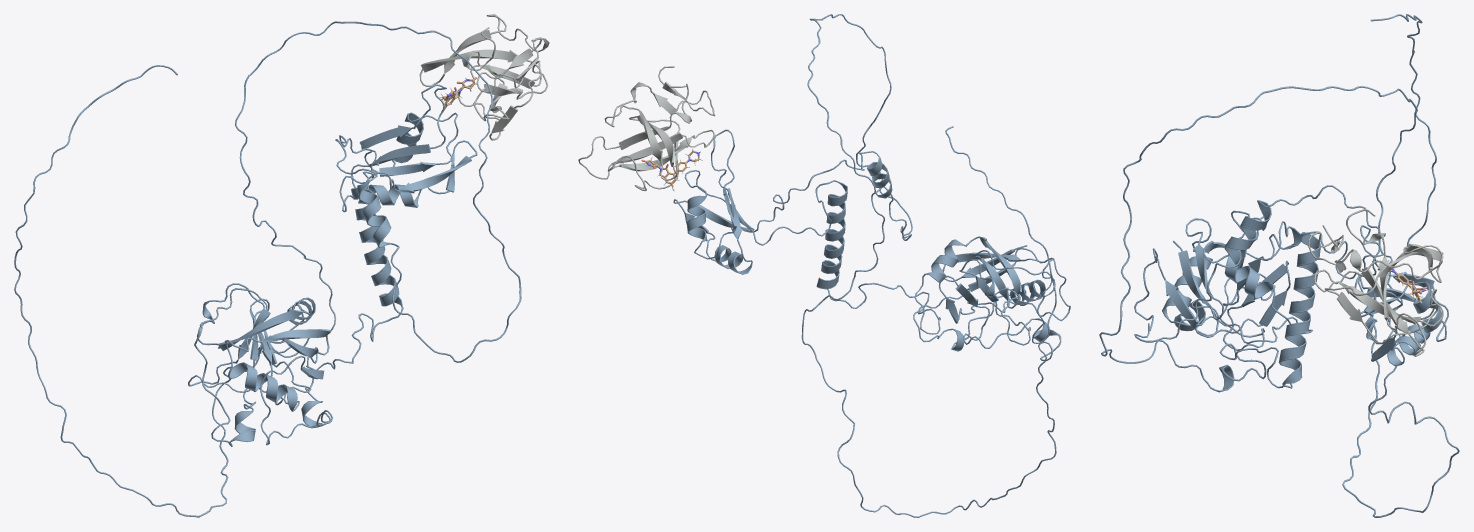
3 renders of one model, left to right at view 1: azimuth 30°, elevation 25°; view 2: azimuth 150°, elevation 25°; view 3: azimuth 270°, elevation 25°, orthographic. The views are drawn at different scales.
Visible parts, largest first — view 1: node-geom97, node-geom98; view 2: node-geom97, node-geom98; view 3: node-geom97, node-geom98.
Part boxes in pixels (x1,y1,x2,y2): node-geom97: (188,14,549,446); node-geom98: (14,21,521,517); node-geom97: (578,66,1070,361); node-geom98: (673,14,1056,517); node-geom97: (1134,209,1443,392); node-geom98: (1099,14,1459,517).
Size of the model in its own units: 142 by 121 by 78.17.
